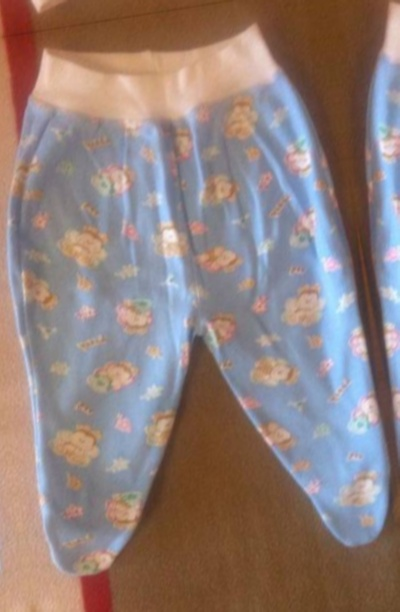Pants: (0, 8, 400, 607), (324, 0, 400, 547), (0, 68, 29, 612), (0, 0, 315, 24)
